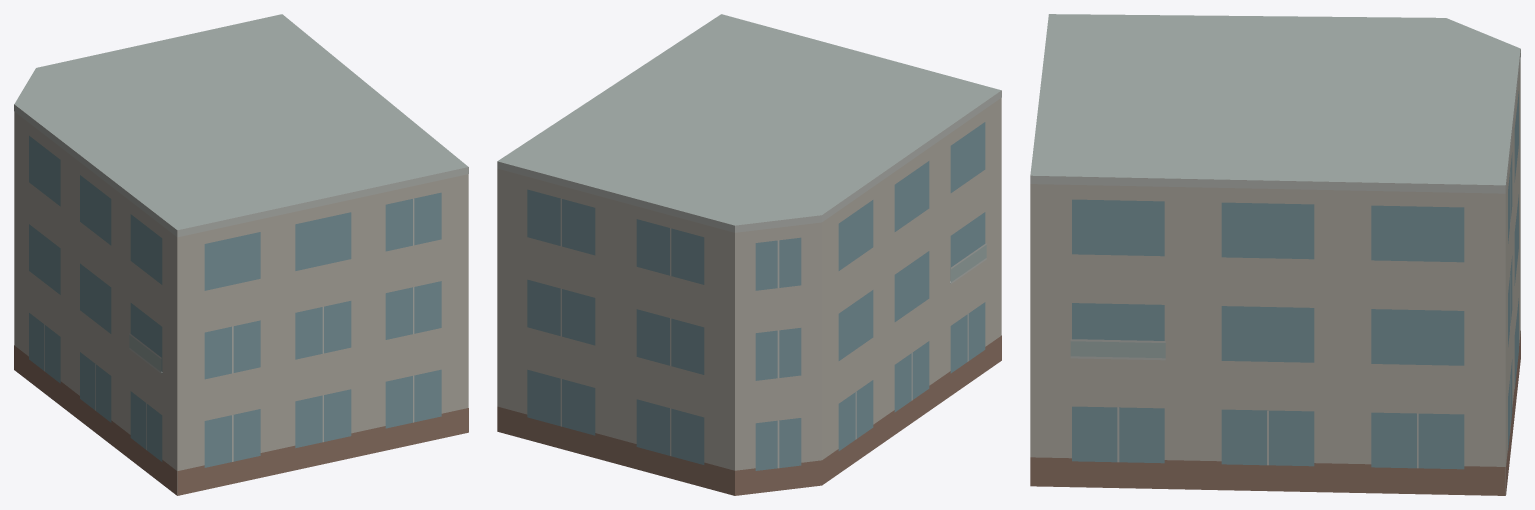
File: survey-upis-33018146.glb
3 renders of one model, left to right at view 1: azimuth 30°, elevation 25°; view 2: azimuth 150°, elevation 25°; view 3: azimuth 270°, elevation 25°, orthographic. The views are drawn at different scales.
Parts seen in each view (by area): view 1: survey-upis-33018146.tmp; view 2: survey-upis-33018146.tmp; view 3: survey-upis-33018146.tmp.
Part boxes in pixels (x1,y1,x2,y2): survey-upis-33018146.tmp: (14,14,468,495); survey-upis-33018146.tmp: (497,14,1001,495); survey-upis-33018146.tmp: (1030,14,1520,495).
Size of the model in its own units: 10.85 by 9.15 by 13.11.
